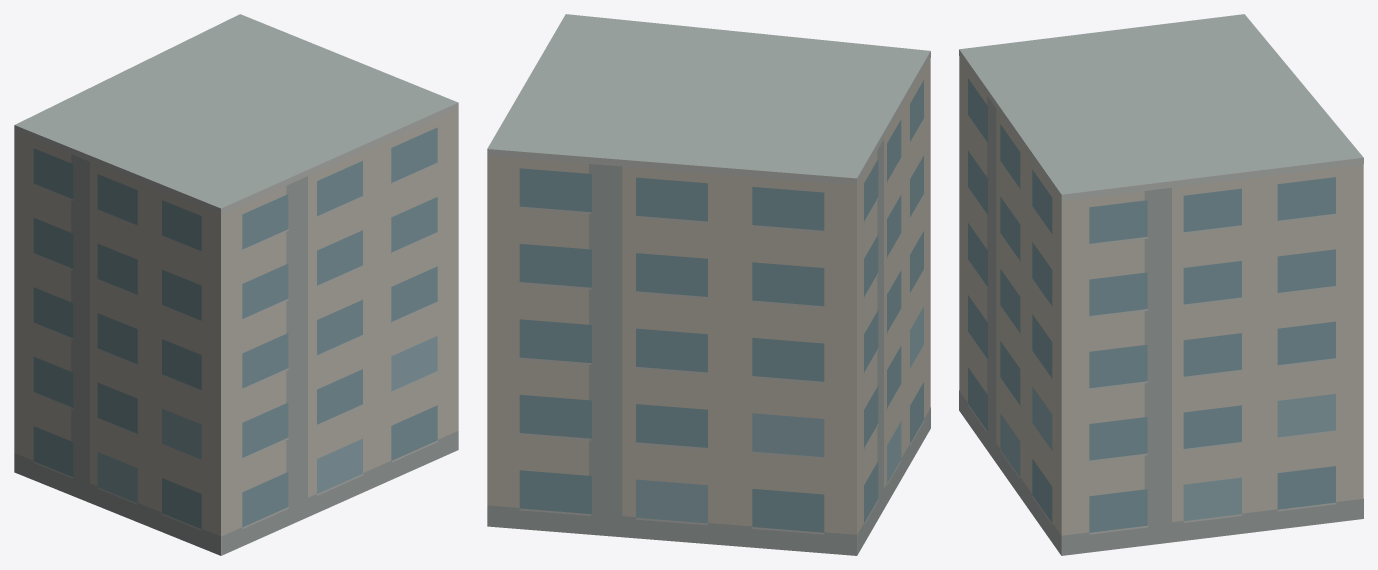
The model's file is survey-upis-32863653.glb.
The picture shows the model from 3 angles, left to right: view 1: azimuth 30°, elevation 25°; view 2: azimuth 150°, elevation 25°; view 3: azimuth 270°, elevation 25°; orthographic projection. The views are drawn at different scales.
Visible parts, largest first — view 1: survey-upis-32863653.tmp; view 2: survey-upis-32863653.tmp; view 3: survey-upis-32863653.tmp.
Boxes of the visible parts, box(x1,y1,x2,y2) form: survey-upis-32863653.tmp: box(14, 14, 458, 555); survey-upis-32863653.tmp: box(487, 14, 930, 555); survey-upis-32863653.tmp: box(959, 14, 1363, 555).
Size of the model in its own units: 14.6 by 13.6 by 13.82.
